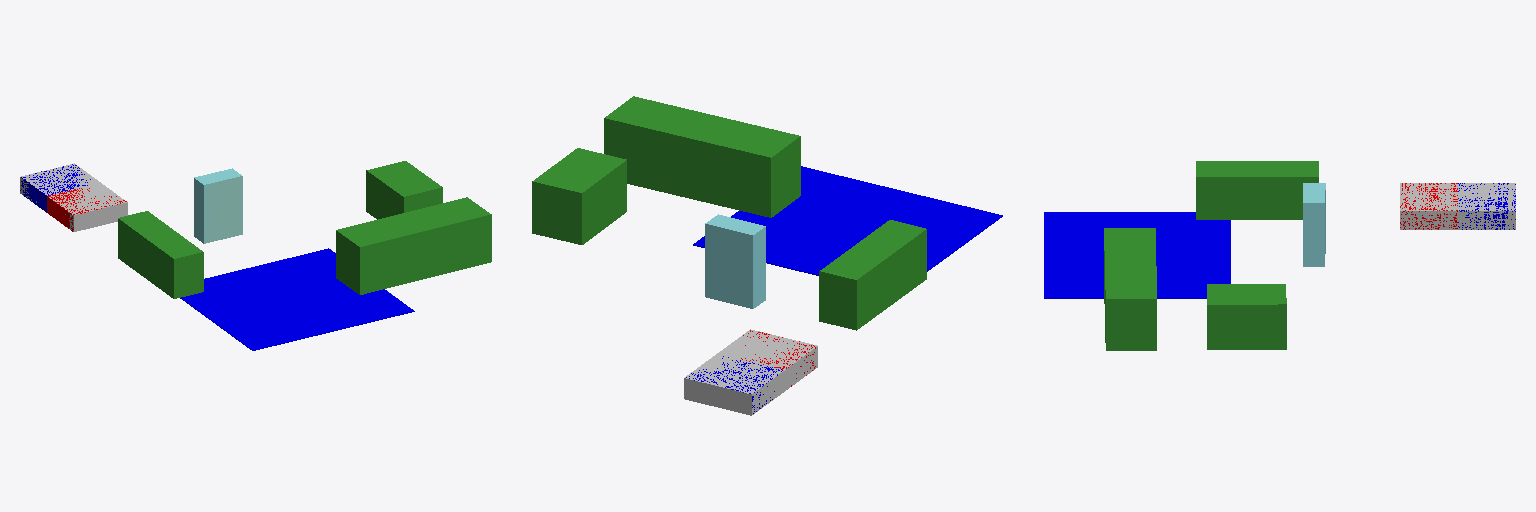
robot.urdf — iai-kitchen:
<?xml version="1.0" ?>
<robot name="iai-kitchen" version="1.0">
  <material name="table_grey">
    <color rgba="0.255 0.62 0.223 1.0"/>
  </material>
  <material name="color_grey">
    <color rgba="0.8 0.8 0.8 1.0"/>
  </material>
  <material name="color_red">
    <color rgba="1.0 0.0 0.0 1.0"/>
  </material>
  <material name="color_blue">
    <color rgba="0.0 0.0 1.0 1.0"/>
  </material>
  <material name="round_table_grey">
    <color rgba="0.8 0.8 0.8 1.0"/>
  </material>
  <material name="wall_red">
    <color rgba="0.75 0.22 0.17 1.0"/>
  </material>
  <material name="shelf_blue">
    <color rgba="0.59 0.88 0.9 1.0"/>
  </material>
  <material name="shelf_door_green">
    <color rgba="0.64 0.87 0.82 1.0"/>
  </material>
  <material name="shelf_openable_handle_red">
    <color rgba="0.74 0.25 0.25 1.0"/>
  </material>
  <material name="door_green">
    <color rgba="0.0 0.31 0.22 1.0"/>
  </material>
  <material name="hinge_red">
    <color rgba="0.74 0.25 0.25 1.0"/>
  </material>
  <material name="handle_blue">
    <color rgba="0.3 0.5 0.78 1.0"/>
  </material>
  <material name="bucket_grey">
    <color rgba="0.8 0.8 0.8 1.0"/>
  </material>
  <material name="white">
    <color rgba="1.0 1.0 1.0 1.0"/>
  </material>
  <material name="orange">
    <color rgba="1.0 0.7 0.0 1.0"/>
  </material>
  <material name="handle_white">
    <color rgba="1.0 1.0 1.0 1.0"/>
  </material>
  <material name="bottom_white">
    <color rgba="1.0 1.0 1.0 1.0"/>
  </material>
  <material name="frame_wood">
    <color rgba="0.68 0.63 0.47 1.0"/>
  </material>
  <material name="handle_grey">
    <color rgba="0.7 0.7 0.7 1.0"/>
  </material>
  <link name="table_kitchen_counter:table:table_center">
    <visual>
      <origin xyz="0.0 0.0 -0.425" rpy="0.0 0.0 0.0"/>
      <geometry>
        <box size="0.76 2.45 0.85"/>
      </geometry>
      <material name="table_grey"/>
    </visual>
    <collision>
      <origin xyz="0.0 0.0 -0.425" rpy="0.0 0.0 0.0"/>
      <geometry>
        <box size="0.76 2.45 0.85"/>
      </geometry>
    </collision>
  </link>
  <link name="table_kitchen_counter:table:table_origin"/>
  <link name="table_kitchen_counter:table:table_front_edge_center"/>
  <joint name="table_kitchen_counter:table:table_origin_joint" type="fixed">
    <origin xyz="3.08 0.8 0.0" rpy="0.0 0.0 -1.56"/>
    <parent link="urdf_offset"/>
    <child link="table_kitchen_counter:table:table_origin"/>
  </joint>
  <joint name="table_kitchen_counter:table:center_joint" type="fixed">
    <origin xyz="0.38 1.225 0.85" rpy="0.0 0.0 0.0"/>
    <parent link="table_kitchen_counter:table:table_origin"/>
    <child link="table_kitchen_counter:table:table_center"/>
  </joint>
  <joint name="table_kitchen_counter:table:table_front_edge_center_joint" type="fixed">
    <origin xyz="0.0 1.225 0.85" rpy="0.0 0.0 0.0"/>
    <parent link="table_kitchen_counter:table:table_origin"/>
    <child link="table_kitchen_counter:table:table_front_edge_center"/>
  </joint>
  <link name="long_table:table:table_center">
    <visual>
      <origin xyz="0.0 0.0 -0.3675" rpy="0.0 0.0 0.0"/>
      <geometry>
        <box size="0.73 1.17 0.735"/>
      </geometry>
      <material name="table_grey"/>
    </visual>
    <collision>
      <origin xyz="0.0 0.0 -0.3675" rpy="0.0 0.0 0.0"/>
      <geometry>
        <box size="0.73 1.17 0.735"/>
      </geometry>
    </collision>
  </link>
  <link name="long_table:table:table_origin"/>
  <link name="long_table:table:table_front_edge_center"/>
  <joint name="long_table:table:table_origin_joint" type="fixed">
    <origin xyz="5.49 2.73 0.0" rpy="0.0 0.0 3.15"/>
    <parent link="urdf_offset"/>
    <child link="long_table:table:table_origin"/>
  </joint>
  <joint name="long_table:table:center_joint" type="fixed">
    <origin xyz="0.365 0.585 0.735" rpy="0.0 0.0 0.0"/>
    <parent link="long_table:table:table_origin"/>
    <child link="long_table:table:table_center"/>
  </joint>
  <joint name="long_table:table:table_front_edge_center_joint" type="fixed">
    <origin xyz="0.0 0.585 0.735" rpy="0.0 0.0 0.0"/>
    <parent link="long_table:table:table_origin"/>
    <child link="long_table:table:table_front_edge_center"/>
  </joint>
  <link name="popcorn_table:table:table_center">
    <visual>
      <origin xyz="0.0 0.0 -0.355" rpy="0.0 0.0 0.0"/>
      <geometry>
        <box size="0.55 1.8 0.71"/>
      </geometry>
      <material name="table_grey"/>
    </visual>
    <collision>
      <origin xyz="0.0 0.0 -0.355" rpy="0.0 0.0 0.0"/>
      <geometry>
        <box size="0.55 1.8 0.71"/>
      </geometry>
    </collision>
  </link>
  <link name="popcorn_table:table:table_origin"/>
  <link name="popcorn_table:table:table_front_edge_center"/>
  <joint name="popcorn_table:table:table_origin_joint" type="fixed">
    <origin xyz="0.435 1.4 0.0" rpy="0.0 0.0 0.0"/>
    <parent link="urdf_offset"/>
    <child link="popcorn_table:table:table_origin"/>
  </joint>
  <joint name="popcorn_table:table:center_joint" type="fixed">
    <origin xyz="0.275 0.9 0.71" rpy="0.0 0.0 0.0"/>
    <parent link="popcorn_table:table:table_origin"/>
    <child link="popcorn_table:table:table_center"/>
  </joint>
  <joint name="popcorn_table:table:table_front_edge_center_joint" type="fixed">
    <origin xyz="0.0 0.9 0.71" rpy="0.0 0.0 0.0"/>
    <parent link="popcorn_table:table:table_origin"/>
    <child link="popcorn_table:table:table_front_edge_center"/>
  </joint>
  <link name="suturo_couch:couch:place1">
    <visual>
      <origin xyz="0.0 0.0 0.15" rpy="0.0 0.0 0.0"/>
      <geometry>
        <box size="1.0 1.7 0.3"/>
      </geometry>
      <material name="color_grey"/>
    </visual>
    <collision>
      <origin xyz="0.0 0.0 0.0" rpy="0.0 0.0 0.0"/>
      <geometry>
        <box size="1.0 1.7 0.3"/>
      </geometry>
    </collision>
  </link>
  <link name="suturo_couch:couch:place2">
    <visual>
      <origin xyz="0.0 -0.425 0.15" rpy="0.0 0.0 0.0"/>
      <geometry>
        <box size="1.0 0.85 0.3"/>
      </geometry>
      <material name="color_red"/>
    </visual>
    <collision>
      <origin xyz="0.0 0.0 0.0" rpy="0.0 0.0 0.0"/>
      <geometry>
        <box size="1.0 1.7 0.3"/>
      </geometry>
    </collision>
  </link>
  <link name="suturo_couch:couch:place3">
    <visual>
      <origin xyz="0.0 0.425 0.15" rpy="0.0 0.0 0.0"/>
      <geometry>
        <box size="1.0 0.85 0.3"/>
      </geometry>
      <material name="color_blue"/>
    </visual>
    <collision>
      <origin xyz="0.0 0.0 -0.15" rpy="0.0 0.0 0.0"/>
      <geometry>
        <box size="1.0 1.7 0.3"/>
      </geometry>
    </collision>
  </link>
  <joint name="suturo_couch:couch:couch_origin_joint" type="fixed">
    <origin xyz="0.81 5.25 0.0" rpy="0.0 0.0 0.0"/>
    <parent link="urdf_offset"/>
    <child link="suturo_couch:couch:place1"/>
  </joint>
  <joint name="suturo_couch:couch:couch_left_joint" type="fixed">
    <origin xyz="0.0 0.0 0.0" rpy="0.0 0.0 0.0"/>
    <parent link="suturo_couch:couch:place1"/>
    <child link="suturo_couch:couch:place2"/>
  </joint>
  <joint name="suturo_couch:couch:couch_right_joint" type="fixed">
    <origin xyz="0.0 0.0 0.0" rpy="0.0 0.0 0.0"/>
    <parent link="suturo_couch:couch:place1"/>
    <child link="suturo_couch:couch:place3"/>
  </joint>
  <link name="shelf:shelf:shelf_origin"/>
  <link name="shelf:shelf:shelf_center"/>
  <link name="shelf:shelf:shelf_base_center"/>
  <joint name="shelf:shelf:shelf_origin_joint" type="fixed">
    <origin xyz="2.61 2.97 0.0" rpy="0.0 0.0 1.56"/>
    <parent link="urdf_offset"/>
    <child link="shelf:shelf:shelf_origin"/>
  </joint>
  <joint name="shelf:shelf:shelf_center_joint" type="fixed">
    <origin xyz="0.16 0.355 0.52" rpy="0.0 0.0 0.0"/>
    <parent link="shelf:shelf:shelf_origin"/>
    <child link="shelf:shelf:shelf_center"/>
  </joint>
  <joint name="shelf:shelf:shelf_base_center_joint" type="fixed">
    <origin xyz="0.16 0.355 0.0" rpy="0.0 0.0 0.0"/>
    <parent link="shelf:shelf:shelf_origin"/>
    <child link="shelf:shelf:shelf_base_center"/>
  </joint>
  <link name="shelf:shelf:shelf_back">
    <visual>
      <origin xyz="0.0 0.0 0.0" rpy="0.0 0.0 0.0"/>
      <geometry>
        <box size="0.015 0.71 1.04"/>
      </geometry>
      <material name="shelf_blue"/>
    </visual>
    <collision>
      <origin xyz="0.0 0.0 0.0" rpy="0.0 0.0 0.0"/>
      <geometry>
        <box size="0.015 0.71 1.04"/>
      </geometry>
    </collision>
  </link>
  <joint name="shelf:shelf:shelf_back:joint" type="fixed">
    <origin xyz="0.32 0.355 0.52" rpy="0.0 0.0 0.0"/>
    <parent link="shelf:shelf:shelf_origin"/>
    <child link="shelf:shelf:shelf_back"/>
  </joint>
  <link name="shelf:shelf:shelf_right_side">
    <visual>
      <origin xyz="0.0 0.0 0.0" rpy="0.0 0.0 0.0"/>
      <geometry>
        <box size="0.32 0.015 1.04"/>
      </geometry>
      <material name="shelf_blue"/>
    </visual>
    <collision>
      <origin xyz="0.0 0.0 0.0" rpy="0.0 0.0 0.0"/>
      <geometry>
        <box size="0.32 0.015 1.04"/>
      </geometry>
    </collision>
  </link>
  <joint name="shelf:shelf:shelf_right_side:joint" type="fixed">
    <origin xyz="0.16 0.0075 0.52" rpy="0.0 0.0 0.0"/>
    <parent link="shelf:shelf:shelf_origin"/>
    <child link="shelf:shelf:shelf_right_side"/>
  </joint>
  <link name="shelf:shelf:shelf_left_side">
    <visual>
      <origin xyz="0.0 0.0 0.0" rpy="0.0 0.0 0.0"/>
      <geometry>
        <box size="0.32 0.015 1.04"/>
      </geometry>
      <material name="shelf_blue"/>
    </visual>
    <collision>
      <origin xyz="0.0 0.0 0.0" rpy="0.0 0.0 0.0"/>
      <geometry>
        <box size="0.32 0.015 1.04"/>
      </geometry>
    </collision>
  </link>
  <joint name="shelf:shelf:shelf_left_side:joint" type="fixed">
    <origin xyz="0.16 0.7025 0.52" rpy="0.0 0.0 0.0"/>
    <parent link="shelf:shelf:shelf_origin"/>
    <child link="shelf:shelf:shelf_left_side"/>
  </joint>
  <link name="shelf:shelf:shelf_floor_0">
    <visual>
      <origin xyz="0.0 0.0 -0.02" rpy="0.0 0.0 0.0"/>
      <geometry>
        <box size="0.32 0.71 0.04"/>
      </geometry>
      <material name="shelf_blue"/>
    </visual>
    <collision>
      <origin xyz="0.0 0.0 -0.02" rpy="0.0 0.0 0.0"/>
      <geometry>
        <box size="0.32 0.71 0.04"/>
      </geometry>
    </collision>
  </link>
  <joint name="shelf:shelf:shelf_floor_0:joint" type="fixed">
    <origin xyz="0.0 0.0 0.07" rpy="0.0 0.0 0.0"/>
    <parent link="shelf:shelf:shelf_base_center"/>
    <child link="shelf:shelf:shelf_floor_0"/>
  </joint>
  <link name="shelf:shelf:shelf_floor_1">
    <visual>
      <origin xyz="0.0 0.0 -0.02" rpy="0.0 0.0 0.0"/>
      <geometry>
        <box size="0.32 0.71 0.04"/>
      </geometry>
      <material name="shelf_blue"/>
    </visual>
    <collision>
      <origin xyz="0.0 0.0 -0.02" rpy="0.0 0.0 0.0"/>
      <geometry>
        <box size="0.32 0.71 0.04"/>
      </geometry>
    </collision>
  </link>
  <joint name="shelf:shelf:shelf_floor_1:joint" type="fixed">
    <origin xyz="0.0 0.0 0.46" rpy="0.0 0.0 0.0"/>
    <parent link="shelf:shelf:shelf_base_center"/>
    <child link="shelf:shelf:shelf_floor_1"/>
  </joint>
  <link name="shelf:shelf:shelf_floor_2">
    <visual>
      <origin xyz="0.0 0.0 -0.02" rpy="0.0 0.0 0.0"/>
      <geometry>
        <box size="0.32 0.71 0.04"/>
      </geometry>
      <material name="shelf_blue"/>
    </visual>
    <collision>
      <origin xyz="0.0 0.0 -0.02" rpy="0.0 0.0 0.0"/>
      <geometry>
        <box size="0.32 0.71 0.04"/>
      </geometry>
    </collision>
  </link>
  <joint name="shelf:shelf:shelf_floor_2:joint" type="fixed">
    <origin xyz="0.0 0.0 0.72" rpy="0.0 0.0 0.0"/>
    <parent link="shelf:shelf:shelf_base_center"/>
    <child link="shelf:shelf:shelf_floor_2"/>
  </joint>
  <link name="shelf:shelf:shelf_floor_3">
    <visual>
      <origin xyz="0.0 0.0 -0.02" rpy="0.0 0.0 0.0"/>
      <geometry>
        <box size="0.32 0.71 0.04"/>
      </geometry>
      <material name="shelf_blue"/>
    </visual>
    <collision>
      <origin xyz="0.0 0.0 -0.02" rpy="0.0 0.0 0.0"/>
      <geometry>
        <box size="0.32 0.71 0.04"/>
      </geometry>
    </collision>
  </link>
  <joint name="shelf:shelf:shelf_floor_3:joint" type="fixed">
    <origin xyz="0.0 0.0 1.04" rpy="0.0 0.0 0.0"/>
    <parent link="shelf:shelf:shelf_base_center"/>
    <child link="shelf:shelf:shelf_floor_3"/>
  </joint>
  <link name="shelf:shelf:shelf_door_right">
    <visual>
      <origin xyz="0.0 0.16249999999999998 0.0" rpy="0.0 0.0 0.0"/>
      <geometry>
        <box size="0.015 0.33999999999999997 1.04"/>
      </geometry>
      <material name="shelf_door_green"/>
    </visual>
    <collision>
      <origin xyz="0.0 0.16249999999999998 0.0" rpy="0.0 0.0 0.0"/>
      <geometry>
        <box size="0.015 0.33999999999999997 1.04"/>
      </geometry>
    </collision>
  </link>
  <link name="shelf:shelf:shelf_door_right:handle">
    <visual>
      <origin xyz="0.0 0.0 0.0" rpy="0.0 0.0 0.0"/>
      <geometry>
        <box size="0.0 0.01 0.084"/>
      </geometry>
      <material name="shelf_openable_handle_red"/>
    </visual>
    <collision>
      <origin xyz="0.0 0.0 0.0" rpy="0.0 0.0 0.0"/>
      <geometry>
        <box size="0.0 0.01 0.084"/>
      </geometry>
    </collision>
  </link>
  <joint name="shelf:shelf:shelf_door_right:handle_joint" type="fixed">
    <origin xyz="-0.015 0.305 0.317" rpy="0.0 0.0 0.0"/>
    <axis xyz="0.0 0.0 1.0"/>
    <parent link="shelf:shelf:shelf_door_right"/>
    <child link="shelf:shelf:shelf_door_right:handle"/>
  </joint>
  <joint name="shelf:shelf:shelf_door_right:joint" type="revolute">
    <origin xyz="-0.1525 0.015 0.0" rpy="0.0 0.0 0.0"/>
    <axis xyz="0.0 0.0 1.0"/>
    <parent link="shelf:shelf:shelf_right_side"/>
    <child link="shelf:shelf:shelf_door_right"/>
    <limit effort="30.0" lower="0.0" upper="1.7" velocity="1.0"/>
  </joint>
  <link name="shelf:shelf:shelf_door_left">
    <visual>
      <origin xyz="0.0 -0.16249999999999998 0.0" rpy="0.0 0.0 0.0"/>
      <geometry>
        <box size="0.015 0.33999999999999997 1.04"/>
      </geometry>
      <material name="shelf_door_green"/>
    </visual>
    <collision>
      <origin xyz="0.0 -0.16249999999999998 0.0" rpy="0.0 0.0 0.0"/>
      <geometry>
        <box size="0.015 0.33999999999999997 1.04"/>
      </geometry>
    </collision>
  </link>
  <link name="shelf:shelf:shelf_door_left:handle">
    <visual>
      <origin xyz="0.0 0.0 0.0" rpy="0.0 0.0 0.0"/>
      <geometry>
        <box size="0.0 0.01 0.084"/>
      </geometry>
      <material name="shelf_openable_handle_red"/>
    </visual>
    <collision>
      <origin xyz="0.0 0.0 0.0" rpy="0.0 0.0 0.0"/>
      <geometry>
        <box size="0.0 0.01 0.084"/>
      </geometry>
    </collision>
  </link>
  <joint name="shelf:shelf:shelf_door_left:handle_joint" type="fixed">
    <origin xyz="-0.015 -0.305 0.317" rpy="0.0 0.0 0.0"/>
    <axis xyz="0.0 0.0 1.0"/>
    <parent link="shelf:shelf:shelf_door_left"/>
    <child link="shelf:shelf:shelf_door_left:handle"/>
  </joint>
  <joint name="shelf:shelf:shelf_door_left:joint" type="revolute">
    <origin xyz="-0.1525 -0.015 0.0" rpy="0.0 0.0 0.0"/>
    <axis xyz="0.0 0.0 1.0"/>
    <parent link="shelf:shelf:shelf_left_side"/>
    <child link="shelf:shelf:shelf_door_left"/>
    <limit effort="30.0" lower="-1.7" upper="0.0" velocity="1.0"/>
  </joint>
  <joint name="world_iai_kitchen:kitchen:room_joint" type="fixed">
    <origin xyz="2.1 0.54 -0.05" rpy="0.0 0.0 0.0"/>
    <parent link="urdf_offset"/>
    <child link="iai_kitchen:kitchen:room_center_link"/>
  </joint>
  <link name="iai_kitchen:kitchen:room_center_link">
    <visual>
      <geometry>
        <box size="3.0 2.75 0.01"/>
      </geometry>
      <material name="iai_kitchen:kitchen:color">
        <color rgba="0.0 0.0 1.0 0.5"/>
      </material>
    </visual>
    <collision>
      <geometry>
        <box size="3.0 2.75 0.01"/>
      </geometry>
    </collision>
  </link>
  <joint name="room_kitchen_entry_exit:entry_exit:connection_joint" type="fixed">
    <origin xyz="-1.4000000000000001 -0.45000000000000007 0.0" rpy="0.0 0.0 0.0"/>
    <parent link="iai_kitchen:kitchen:room_center_link"/>
    <child link="kitchen_entry_exit:entry_exit:link"/>
  </joint>
  <link name="kitchen_entry_exit:entry_exit:link"/>
  <joint name="world_arena:arena:room_joint" type="fixed">
    <origin xyz="2.1 0.54 -0.05" rpy="0.0 0.0 0.0"/>
    <parent link="urdf_offset"/>
    <child link="arena:arena:room_center_link"/>
  </joint>
  <link name="arena:arena:room_center_link">
    <visual>
      <geometry>
        <box size="3.0 2.75 0.01"/>
      </geometry>
      <material name="arena:arena:color">
        <color rgba="1.0 0.0 0.0 0.1"/>
      </material>
    </visual>
    <collision>
      <geometry>
        <box size="3.0 2.75 0.01"/>
      </geometry>
    </collision>
  </link>
  <joint name="room_arena_entry_exit:entry_exit:connection_joint" type="fixed">
    <origin xyz="-1.4000000000000001 -0.45000000000000007 0.0" rpy="0.0 0.0 0.0"/>
    <parent link="arena:arena:room_center_link"/>
    <child link="arena_entry_exit:entry_exit:link"/>
  </joint>
  <link name="arena_entry_exit:entry_exit:link"/>
  <link name="urdf_main"/>
  <joint name="map_urdf_joint" type="fixed">
    <origin xyz="0.0 0.0 0.0" rpy="0.0 0.0 0.0"/>
    <parent link="urdf_main"/>
    <child link="urdf_offset"/>
  </joint>
  <link name="urdf_offset"/>
</robot>

--- Render facts (derived) ---
Views: 3 orthographic renders of the robot side by side, from view 1: azimuth 30°, elevation 25°; view 2: azimuth 150°, elevation 25°; view 3: azimuth 270°, elevation 25°.
Robot: iai-kitchen — 32 links, 31 joints (2 revolute, 29 fixed); root link urdf_main; default pose: every joint at zero.
Visible links, largest first — view 1: iai_kitchen:kitchen:room_center_link, table_kitchen_counter:table:table_center, popcorn_table:table:table_center, long_table:table:table_center, suturo_couch:couch:place1, shelf:shelf:shelf_door_right, shelf:shelf:shelf_door_left, suturo_couch:couch:place3, suturo_couch:couch:place2, shelf:shelf:shelf_left_side; view 2: table_kitchen_counter:table:table_center, iai_kitchen:kitchen:room_center_link, popcorn_table:table:table_center, long_table:table:table_center, suturo_couch:couch:place1, shelf:shelf:shelf_back, shelf:shelf:shelf_left_side, shelf:shelf:shelf_floor_3; view 3: iai_kitchen:kitchen:room_center_link, popcorn_table:table:table_center, table_kitchen_counter:table:table_center, long_table:table:table_center, suturo_couch:couch:place1, shelf:shelf:shelf_right_side, suturo_couch:couch:place2, suturo_couch:couch:place3.
Boxes of the visible links, bbox=[...] form: iai_kitchen:kitchen:room_center_link: bbox=[180, 248, 414, 350]; table_kitchen_counter:table:table_center: bbox=[336, 197, 491, 294]; popcorn_table:table:table_center: bbox=[118, 211, 203, 298]; long_table:table:table_center: bbox=[366, 161, 442, 219]; suturo_couch:couch:place1: bbox=[20, 163, 127, 231]; shelf:shelf:shelf_door_right: bbox=[223, 176, 241, 238]; shelf:shelf:shelf_door_left: bbox=[205, 180, 222, 243]; suturo_couch:couch:place3: bbox=[20, 164, 90, 212]; suturo_couch:couch:place2: bbox=[47, 188, 126, 231]; shelf:shelf:shelf_left_side: bbox=[194, 178, 204, 243]; table_kitchen_counter:table:table_center: bbox=[604, 96, 800, 217]; iai_kitchen:kitchen:room_center_link: bbox=[693, 166, 1002, 275]; popcorn_table:table:table_center: bbox=[819, 220, 926, 330]; long_table:table:table_center: bbox=[532, 148, 626, 244]; suturo_couch:couch:place1: bbox=[684, 329, 817, 415]; shelf:shelf:shelf_back: bbox=[705, 223, 753, 308]; shelf:shelf:shelf_left_side: bbox=[753, 226, 765, 307]; shelf:shelf:shelf_floor_3: bbox=[706, 214, 765, 236]; iai_kitchen:kitchen:room_center_link: bbox=[1044, 212, 1230, 298]; popcorn_table:table:table_center: bbox=[1196, 161, 1318, 219]; table_kitchen_counter:table:table_center: bbox=[1104, 228, 1156, 350]; long_table:table:table_center: bbox=[1207, 284, 1286, 349]; suturo_couch:couch:place1: bbox=[1400, 183, 1515, 229]; shelf:shelf:shelf_right_side: bbox=[1303, 203, 1324, 266]; suturo_couch:couch:place2: bbox=[1400, 183, 1457, 229]; suturo_couch:couch:place3: bbox=[1458, 183, 1515, 229].
Size in the robot's own frame: 5.23 by 6.93 by 1.09 metres.
Geometry: primitives only (box / cylinder / sphere), no mesh files.